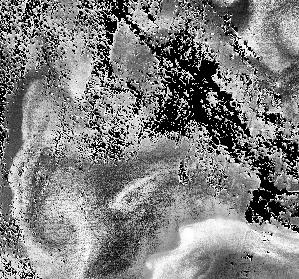CE: (10, 151, 118, 269)
